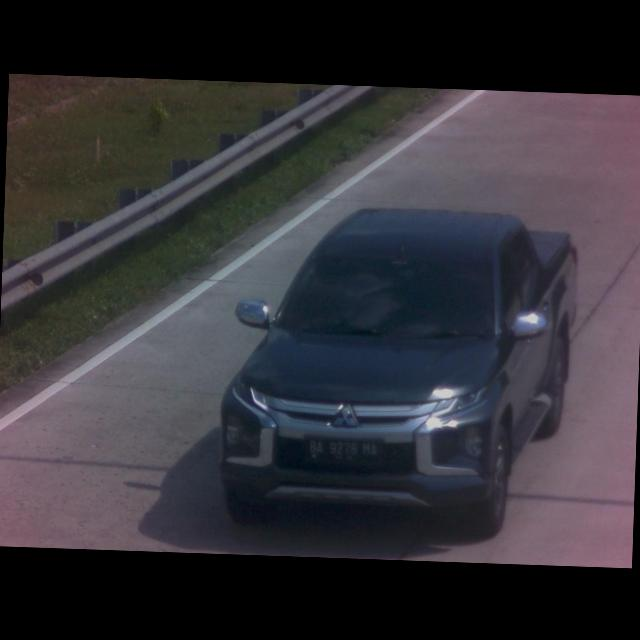plate: (304, 434, 385, 464)
